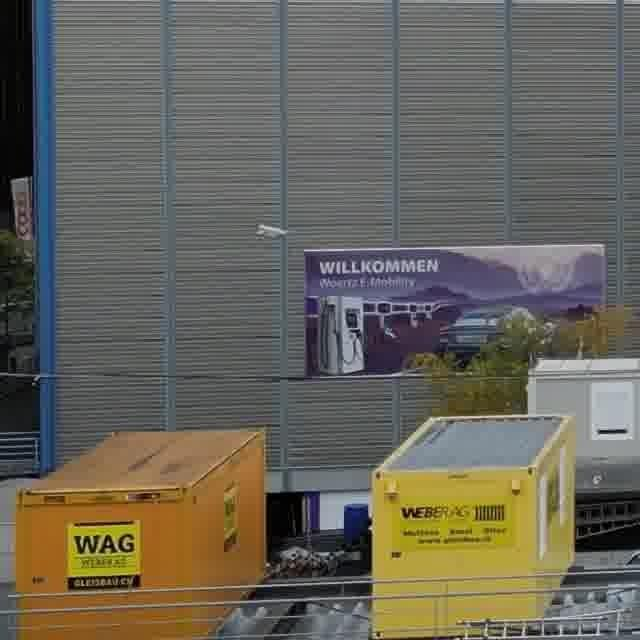Drohne: (257, 224, 287, 237)
